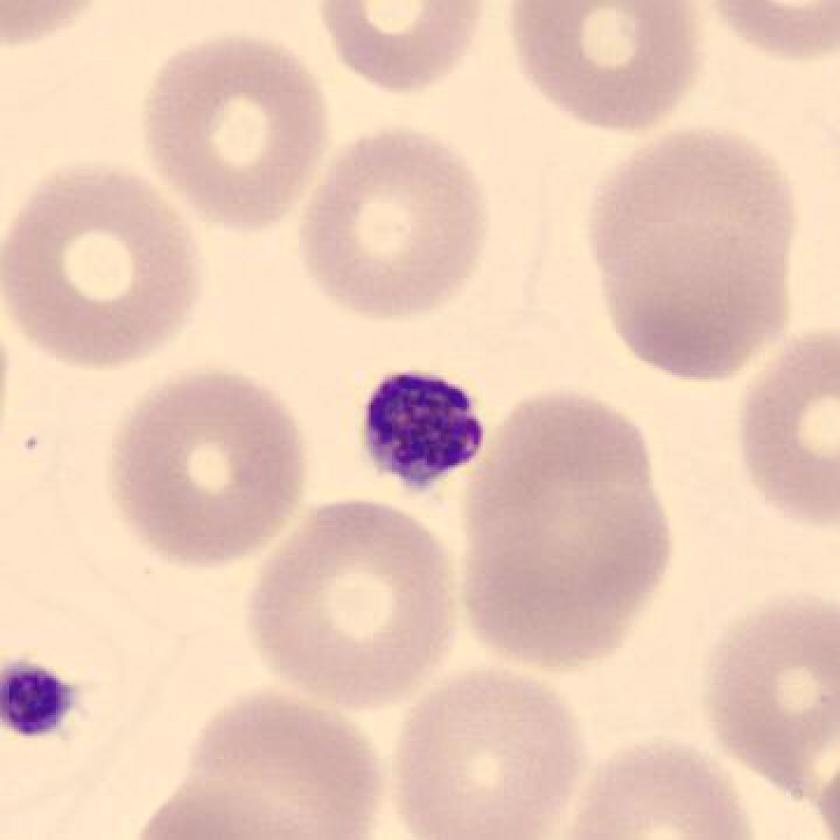platelets: (349, 365, 491, 497), (1, 651, 78, 753)
